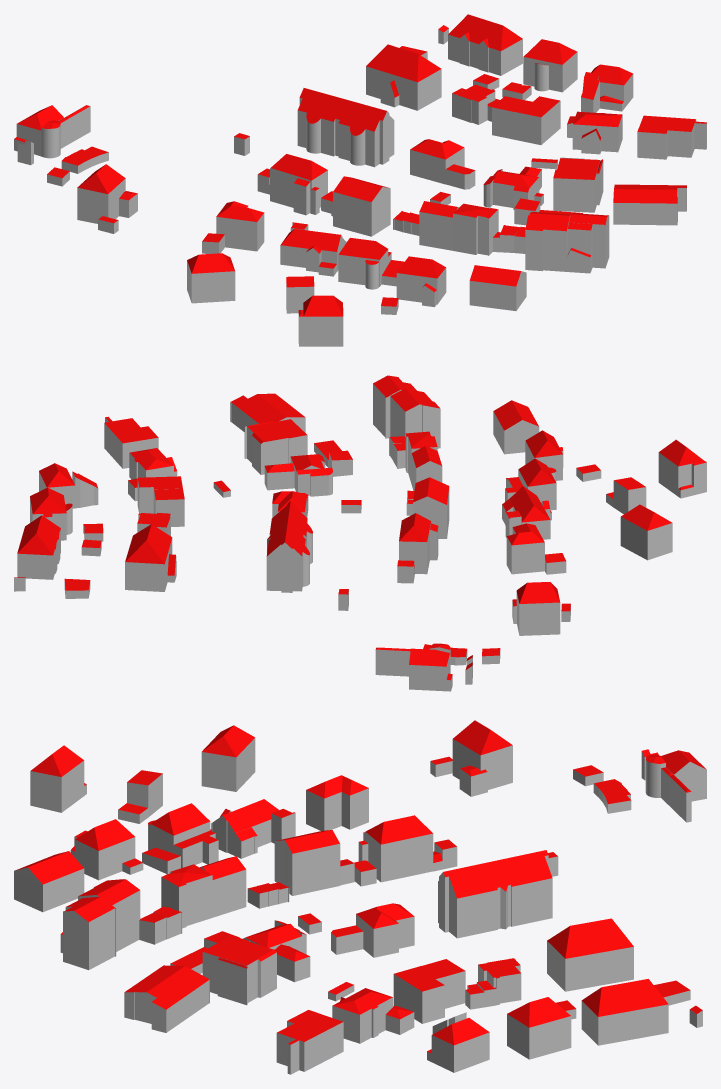
3 renders of one model, top to bottom at view 1: azimuth 30°, elevation 25°; view 2: azimuth 150°, elevation 25°; view 3: azimuth 270°, elevation 25°, orthographic. The views are drawn at different scales.
Size of the model in its own units: 206 by 18.45 by 196.
